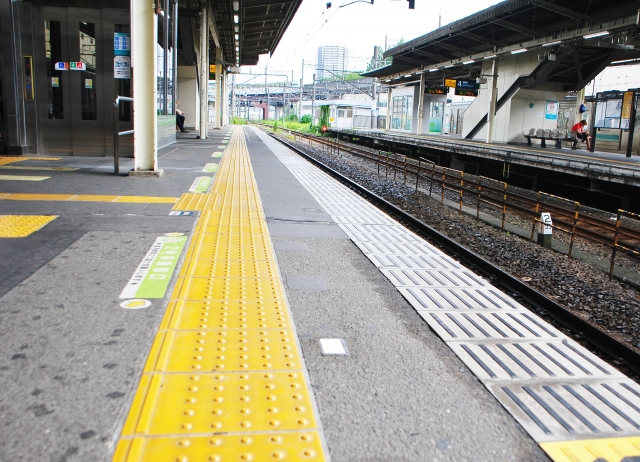dot: (186, 372, 315, 433), (191, 328, 301, 374), (195, 302, 294, 329), (202, 276, 285, 303), (205, 259, 280, 278), (212, 234, 271, 248), (208, 247, 274, 259)
